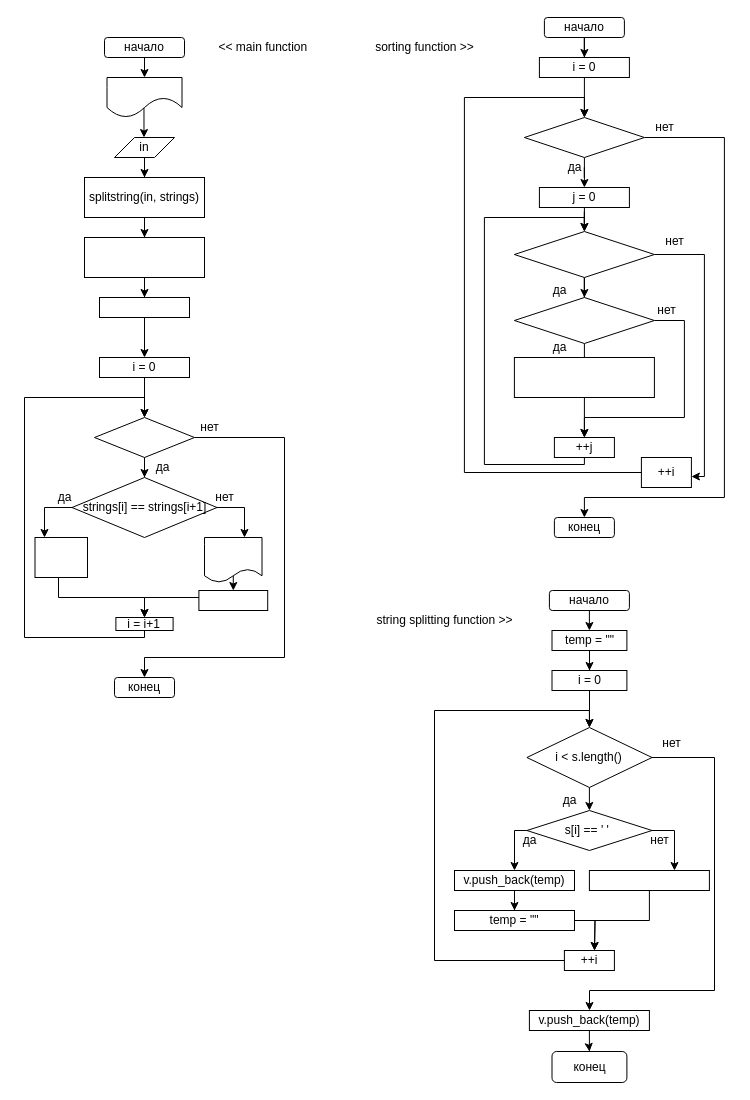
The diagram is 750 pixels wide and 1100 high, and some of its shapes have lost their labels. The shapes that lost their labels are listed below. From the top down, each one's centre as x and y in pixels, then its label:
(144,97): "enter text"
(583,137): i < numb.size ()
(144,257): fsort(strings)
(583,254): j < numb.size() - i - 1
(144,307): count = 1
(583,320): numb[j] < numb[j+1]
(583,377): swap(numb[j+1], numb[j])
(144,437): i < strings.size
(61,557): count = count +1
(233,559): strings[i], count
(233,600): count =1
(648,880): temp.push_back(s[i])
